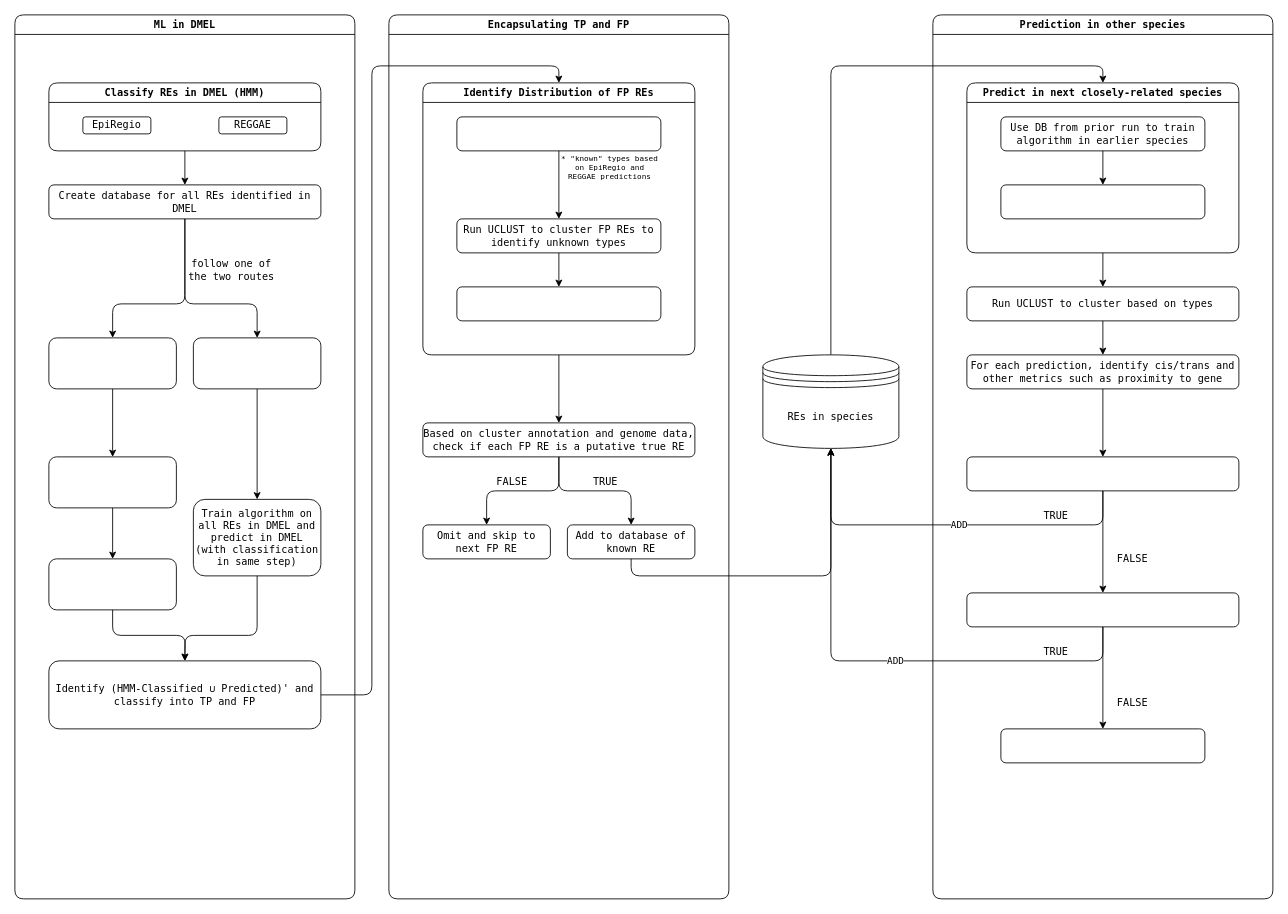
This 1288x914 diagram has some shape labels left out. Here are the shapes that lost their labels. From the top down, the centre of each, then its label:
(x=558, y=133): Run UCLUST to cluster TP REs to identify "known" types
(x=1102, y=201): Predict using trained algorithm in next closely-related species
(x=558, y=303): Classify FP clusters based on TP cluster annotations
(x=112, y=363): Split REs based on type and make them type agnostic
(x=257, y=363): Retain RE type
(x=112, y=482): Train algorithm on all REs in DMEL and predict in DMEL
(x=1102, y=473): Check using homology if can be putative RE
(x=112, y=584): Train another algorithm to predict RE type
(x=1102, y=609): Manually check if can be putative RE
(x=1102, y=745): Omit from assay
